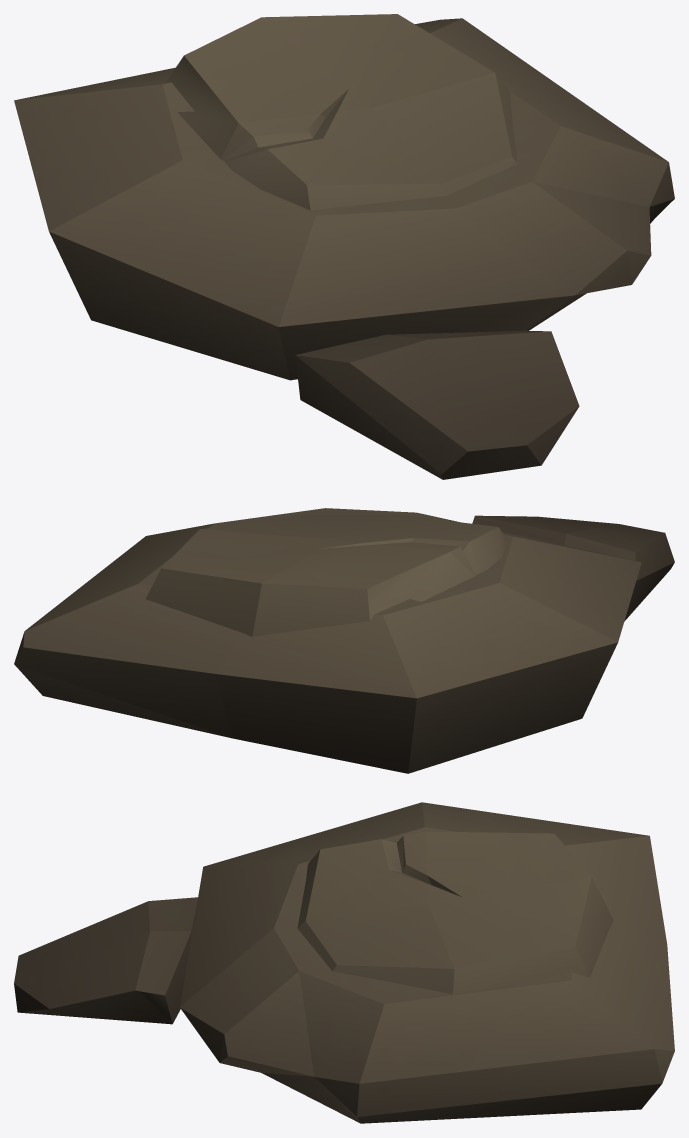
File: LandMass_A.fbx
3 renders of one model, top to bottom at view 1: azimuth 30°, elevation 25°; view 2: azimuth 150°, elevation 25°; view 3: azimuth 270°, elevation 25°, orthographic. The views are drawn at different scales.
Visible parts, largest first — view 1: LandMass_A; view 2: LandMass_A; view 3: LandMass_A.
Part boxes in pixels (<box>): LandMass_A: <box>14,14,674,479</box>; LandMass_A: <box>14,508,674,773</box>; LandMass_A: <box>14,802,674,1123</box>.
Bounding box in the file's own units: 1487 × 458 × 1700.
